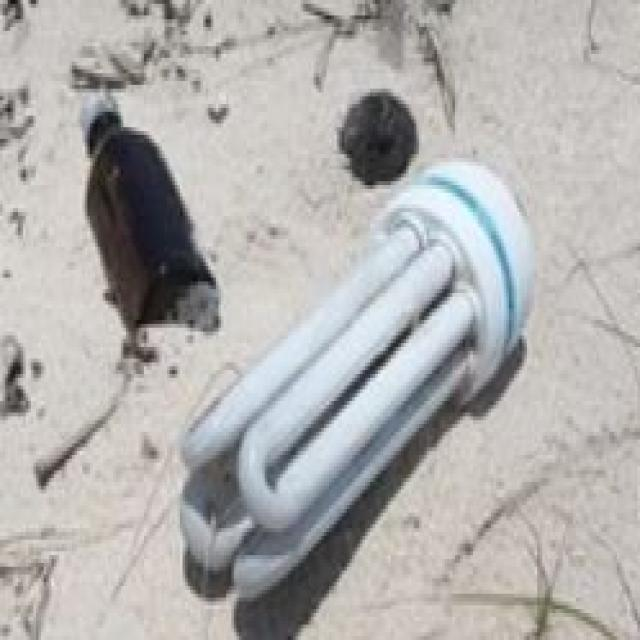electronic: (178, 150, 538, 602)
